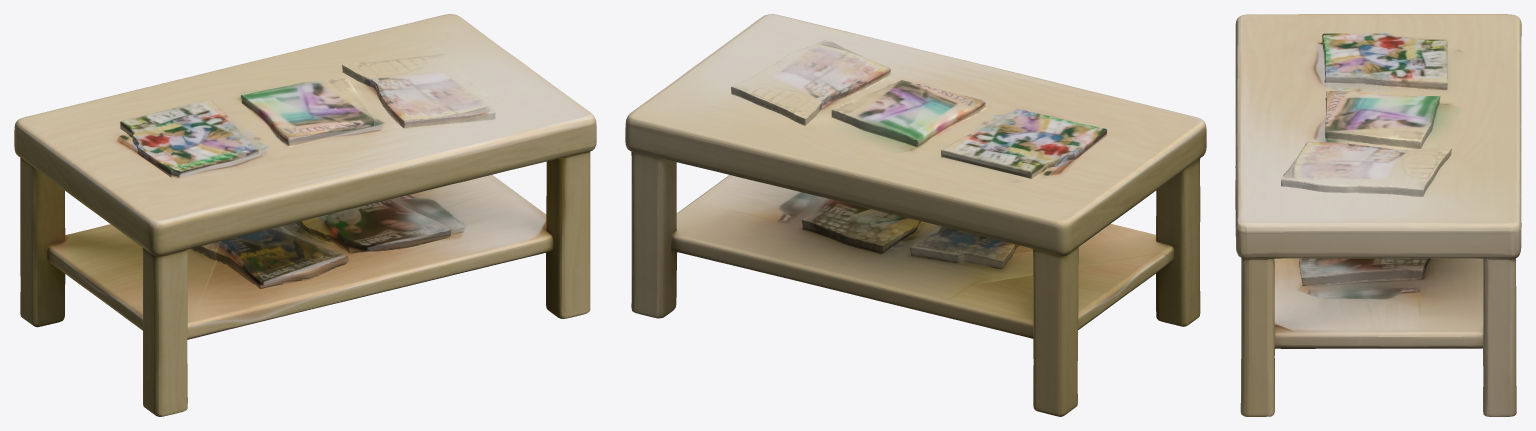
The model's file is coffee_table.glb.
3 views of the same model, side by side, from view 1: azimuth 30°, elevation 25°; view 2: azimuth 150°, elevation 25°; view 3: azimuth 270°, elevation 25° (orthographic).
Parts seen in each view (by area): view 1: geometry_0; view 2: geometry_0; view 3: geometry_0.
Boxes of the visible parts, <box> form: geometry_0: <box>14,14,596,416</box>; geometry_0: <box>625,14,1206,416</box>; geometry_0: <box>1235,14,1521,416</box>.
Size of the model in its own units: 1 by 0.4462 by 0.566.
Materials: 1 (1 with a texture image).
